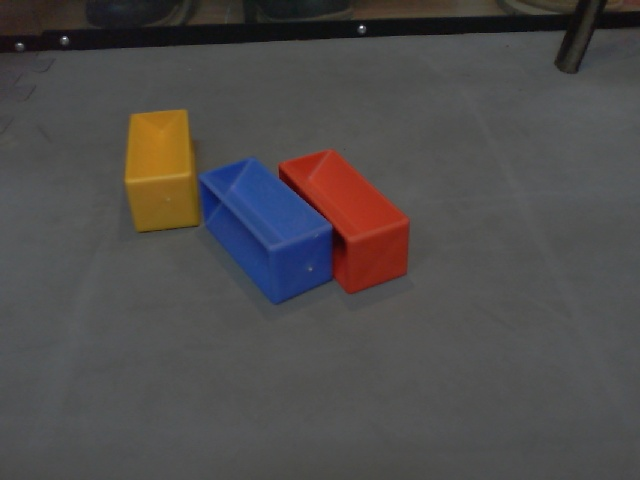BlueSample: (196, 154, 334, 308)
RedSample: (276, 148, 410, 295)
YellowSample: (121, 108, 199, 232)
